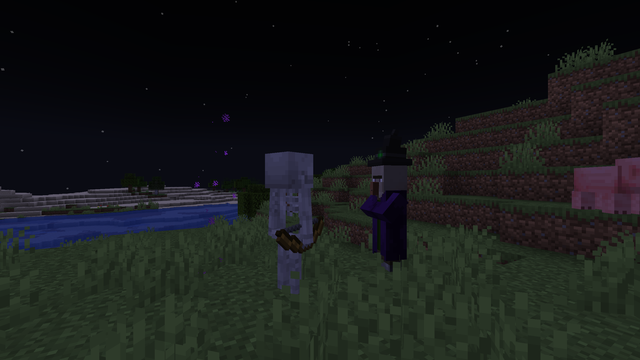cochons: (572, 164, 635, 213)
sorcieres: (365, 160, 412, 274)
squelettes: (263, 151, 316, 302)
